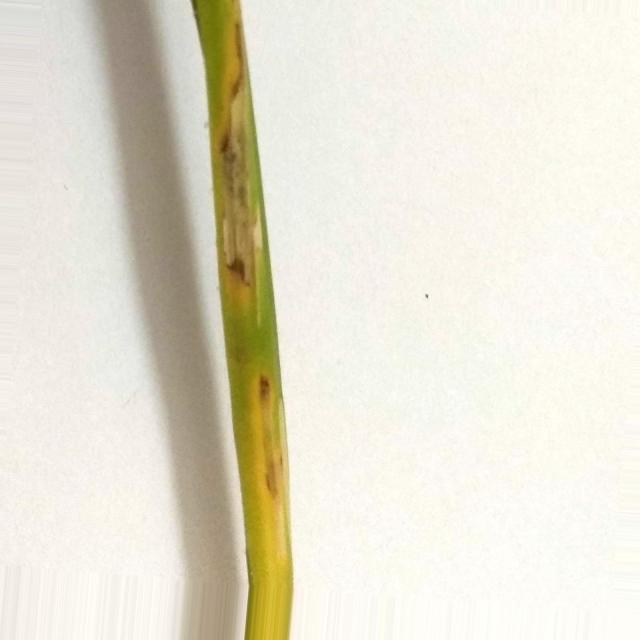Bacterial_Leaf_Blight: (215, 6, 268, 324)
Brown_Spot: (225, 250, 252, 288), (258, 371, 276, 406)
